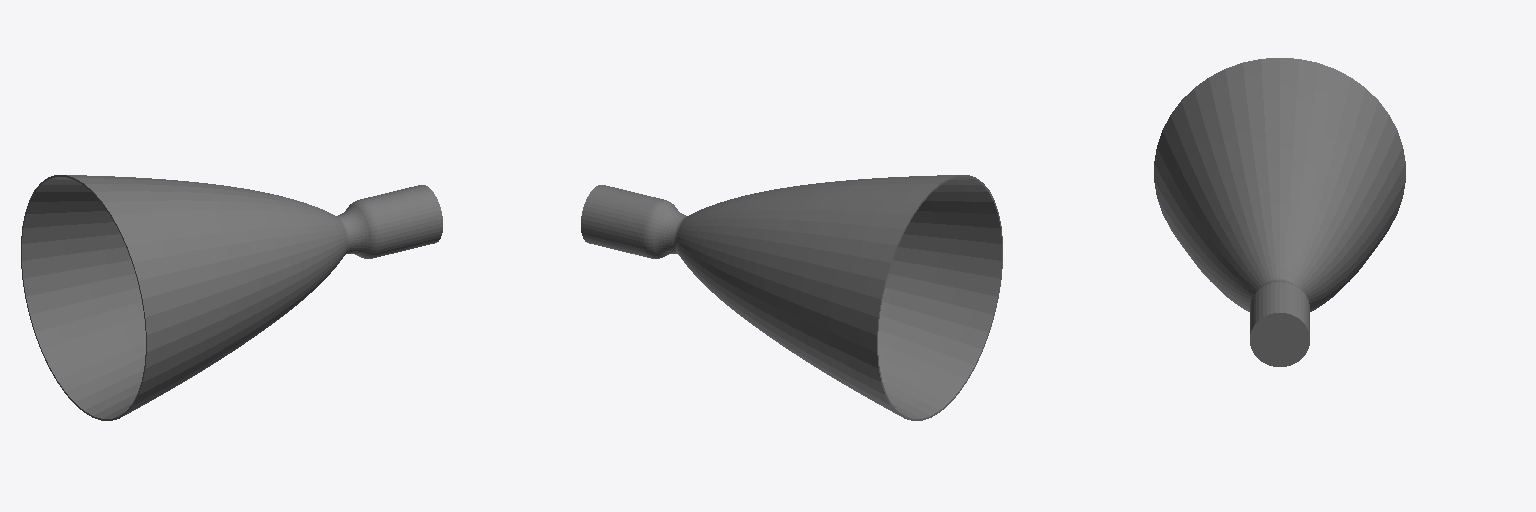
File: Engine_2__Rocket.obj
The picture shows the model from 3 angles: view 1: azimuth 30°, elevation 25°; view 2: azimuth 150°, elevation 25°; view 3: azimuth 270°, elevation 25°; orthographic projection.
Parts seen in each view (by area): view 1: g_Mat_Nozzle; view 2: g_Mat_Nozzle; view 3: g_Mat_Nozzle.
Boxes of the visible parts, x1=… form: g_Mat_Nozzle: x1=21, y1=175, x2=442, y2=420; g_Mat_Nozzle: x1=581, y1=175, x2=1002, y2=420; g_Mat_Nozzle: x1=1154, y1=58, x2=1405, y2=366.
Bounding box in the file's own units: 1.89 × 1.2 × 1.19.